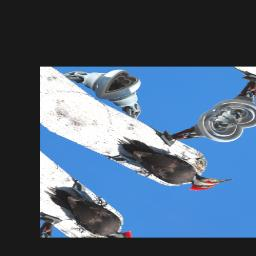Woodpecker: (99, 122, 236, 209)
